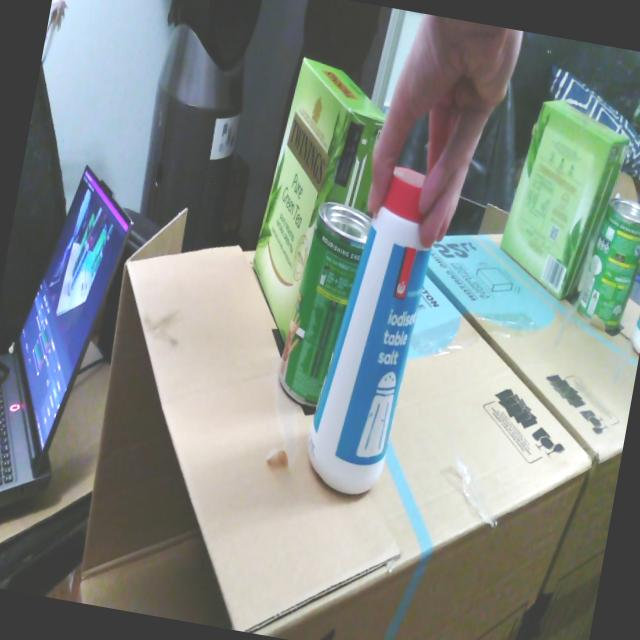nestle_milo_tin: (277, 201, 371, 406)
twinings_greentea_box: (253, 57, 386, 343)
woolworths_salt_bottle: (308, 167, 430, 494)
